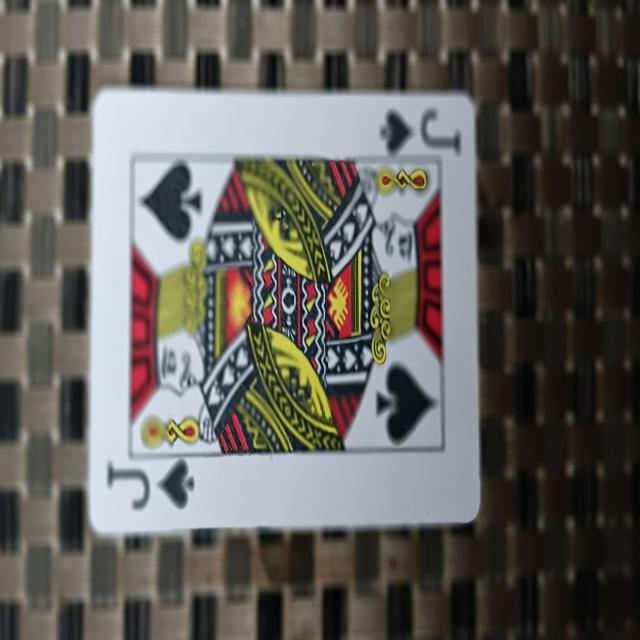JS: (90, 90, 478, 520)
